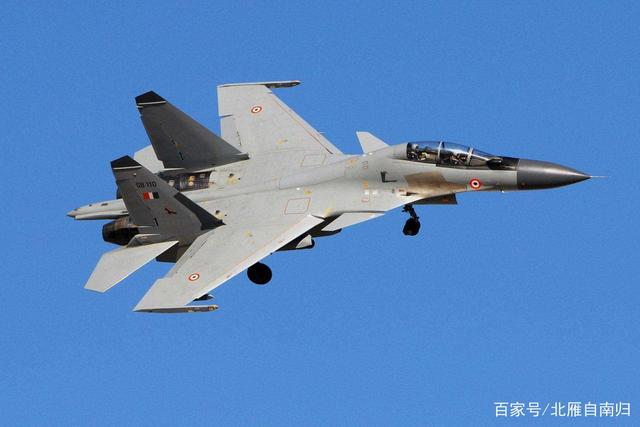airplane: (59, 78, 604, 315)
